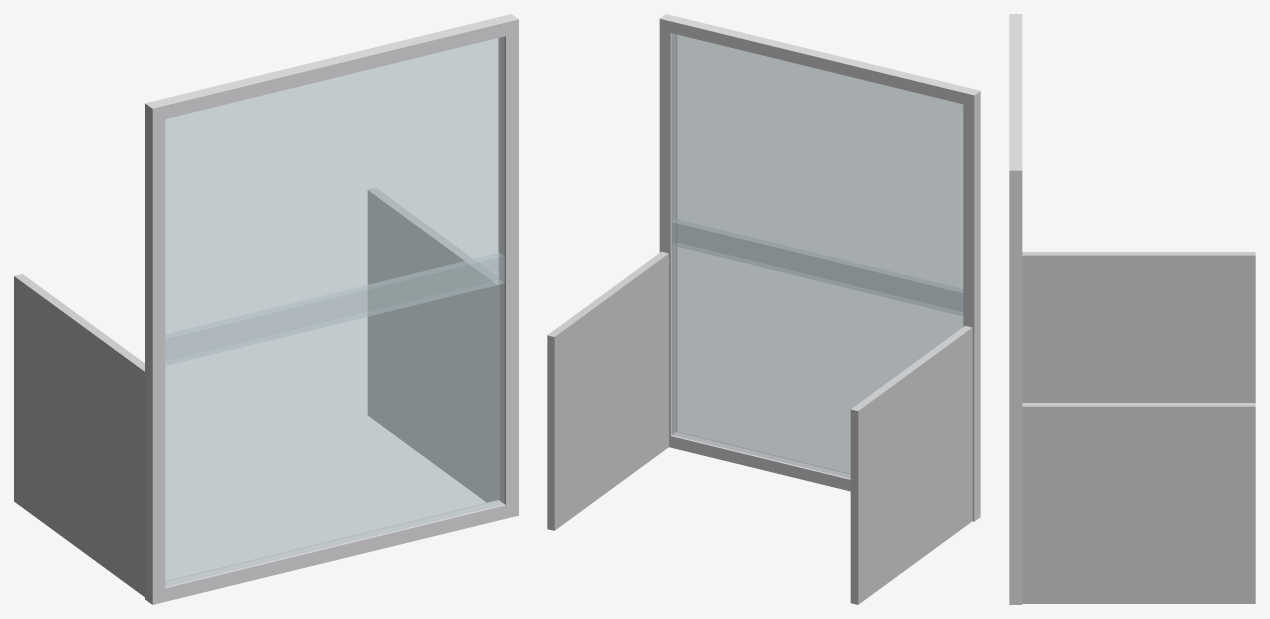
File: balconyWindow.glb
3 views of the same model, side by side, from view 1: azimuth 30°, elevation 25°; view 2: azimuth 150°, elevation 25°; view 3: azimuth 270°, elevation 25° (orthographic). The views are drawn at different scales.
Parts seen in each view (by area): view 1: Panel_Floor, Panel_Canopy, Panel_RailL, Panel_RailR, Frame_Left, Frame_Right, Frame_Top, Frame_Bottom; view 2: Panel_Canopy, Panel_Floor, Panel_RailL, Panel_RailR, Frame_Top, Frame_Left, Frame_Right, Frame_Bottom; view 3: Panel_RailR, Panel_RailL, Frame_Right, Frame_Top.
Boxes of the visible parts, bbox=[...] form: Panel_Floor: bbox=[165, 253, 504, 586]; Panel_Canopy: bbox=[165, 37, 504, 365]; Panel_RailL: bbox=[14, 274, 144, 596]; Panel_RailR: bbox=[368, 188, 497, 502]; Frame_Left: bbox=[145, 101, 165, 604]; Frame_Right: bbox=[498, 16, 518, 515]; Frame_Top: bbox=[145, 14, 518, 121]; Frame_Bottom: bbox=[145, 500, 518, 604]; Panel_Canopy: bbox=[672, 33, 963, 316]; Panel_Floor: bbox=[672, 219, 963, 478]; Panel_RailL: bbox=[850, 325, 972, 604]; Panel_RailR: bbox=[547, 251, 668, 530]; Frame_Top: bbox=[660, 14, 980, 106]; Frame_Left: bbox=[963, 90, 980, 509]; Frame_Right: bbox=[659, 19, 676, 447]; Frame_Bottom: bbox=[669, 431, 980, 521]; Panel_RailR: bbox=[1022, 403, 1255, 603]; Panel_RailL: bbox=[1022, 252, 1255, 402]; Frame_Right: bbox=[1009, 165, 1022, 592]; Frame_Top: bbox=[1009, 14, 1022, 182].
Bounding box in the file's own units: 1.7 × 2.2 × 1.13.
